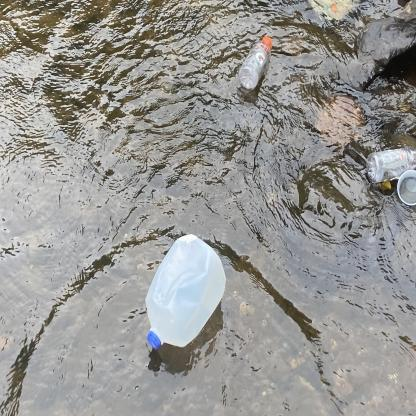trash: (140, 228, 230, 360), (237, 34, 274, 96), (365, 145, 416, 184), (394, 166, 416, 209)
